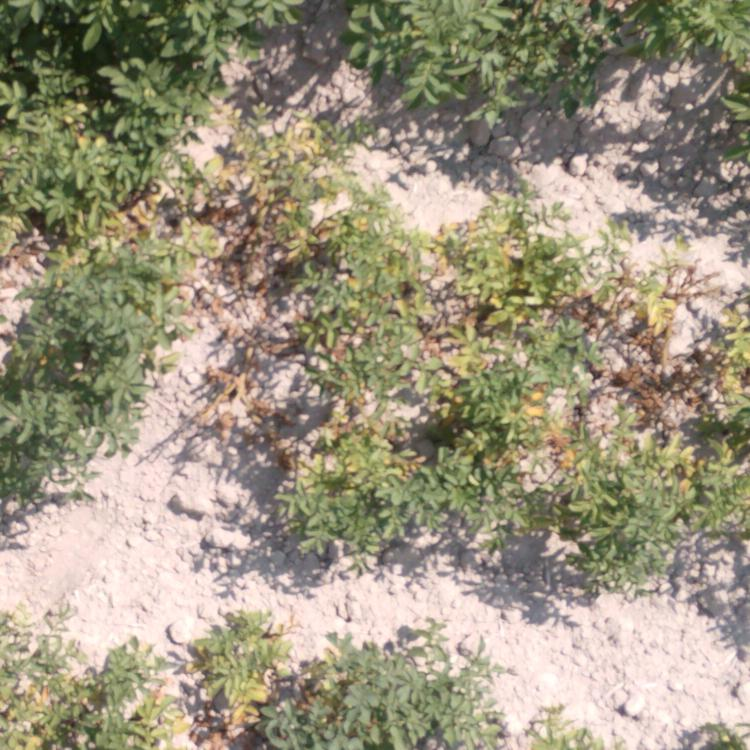healthy: (5, 274, 154, 486), (346, 1, 576, 100), (7, 1, 199, 95), (346, 633, 463, 741), (600, 1, 745, 71), (704, 79, 750, 175), (216, 1, 286, 62)
stressed: (555, 405, 748, 573), (1, 114, 156, 266), (590, 252, 738, 394), (171, 130, 323, 266), (1, 631, 172, 748), (189, 613, 326, 750), (436, 340, 538, 515), (439, 194, 570, 321), (330, 210, 427, 372), (297, 388, 419, 502), (508, 702, 586, 742)
